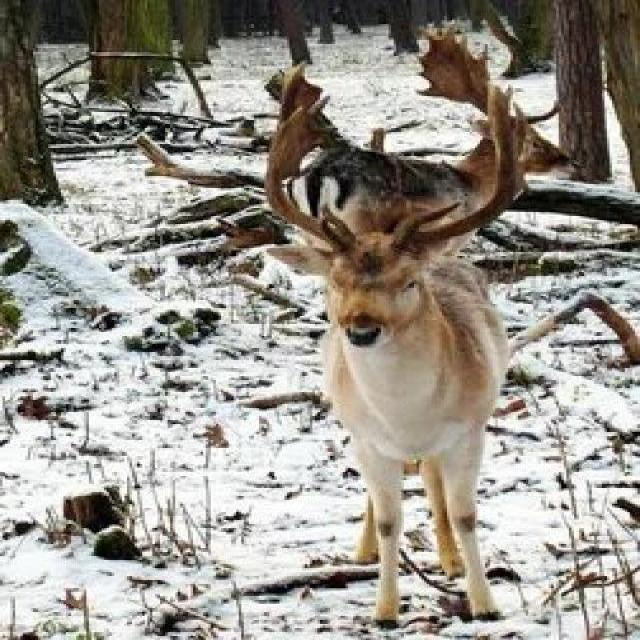deer: (142, 96, 610, 515)
